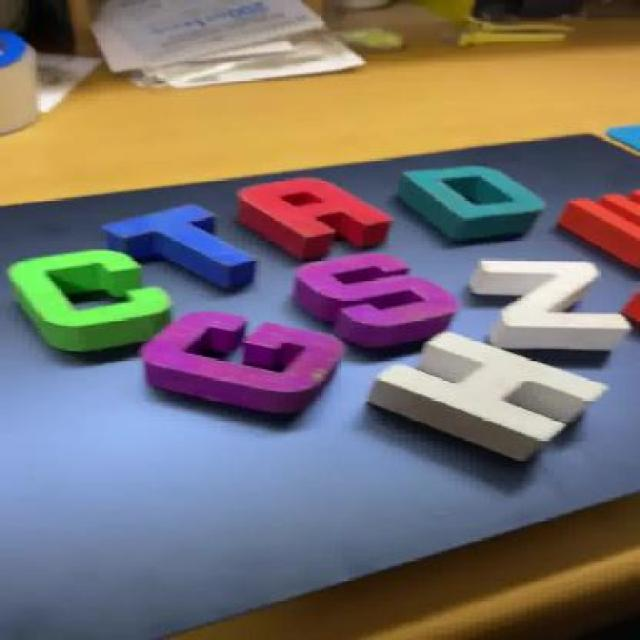A: (223, 174, 414, 254)
C: (8, 242, 170, 362)
D: (412, 157, 554, 246)
G: (142, 306, 362, 414)
H: (366, 335, 608, 462)
S: (281, 258, 467, 352)
T: (104, 202, 259, 295)
Z: (464, 257, 639, 365)
